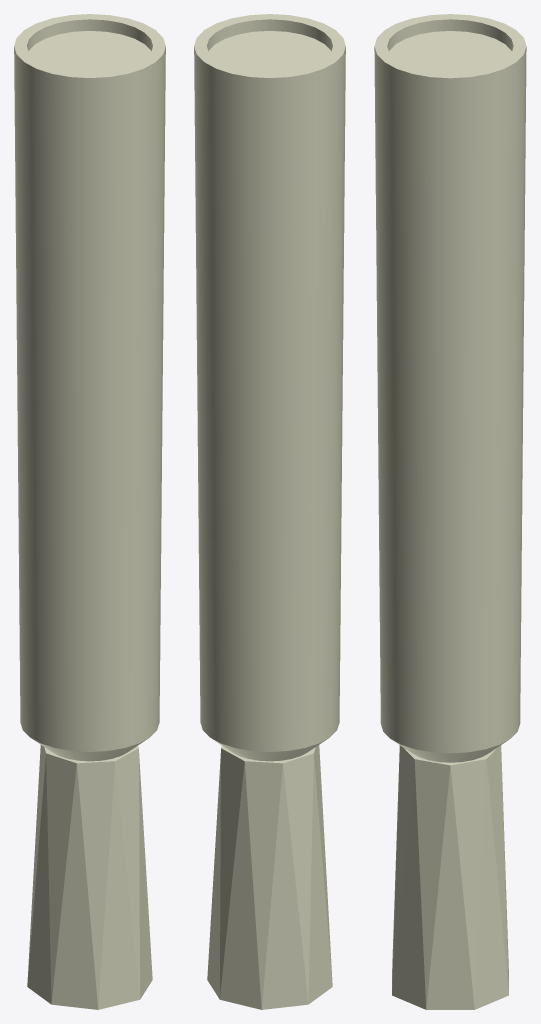
The model's file is highlighter.obj.
The picture shows the model from 3 angles, left to right: view 1: azimuth 30°, elevation 25°; view 2: azimuth 150°, elevation 25°; view 3: azimuth 270°, elevation 25°; orthographic projection.
Parts seen in each view (by area): view 1: Mesh1 Group_3_1 heighlighter1 Model, Mesh7 Group_2_1 heighlighter1 Model; view 2: Mesh1 Group_3_1 heighlighter1 Model, Mesh7 Group_2_1 heighlighter1 Model; view 3: Mesh1 Group_3_1 heighlighter1 Model, Mesh7 Group_2_1 heighlighter1 Model.
Boxes of the visible parts, box(x1,y1,x2,y2) form: Mesh1 Group_3_1 heighlighter1 Model: box(14, 14, 165, 761); Mesh7 Group_2_1 heighlighter1 Model: box(27, 745, 152, 1009); Mesh1 Group_3_1 heighlighter1 Model: box(194, 14, 345, 761); Mesh7 Group_2_1 heighlighter1 Model: box(207, 745, 332, 1009); Mesh1 Group_3_1 heighlighter1 Model: box(374, 14, 526, 762); Mesh7 Group_2_1 heighlighter1 Model: box(392, 745, 508, 1009).
Bounding box in the file's own units: 0.0191 × 0.1298 × 0.0191.
